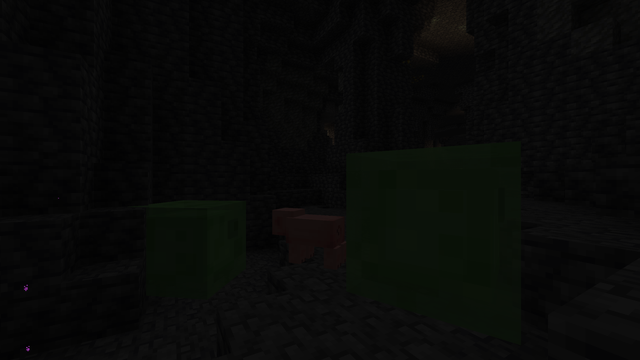cochons: (286, 212, 334, 271)
slimes: (341, 132, 552, 346), (141, 196, 242, 299)
